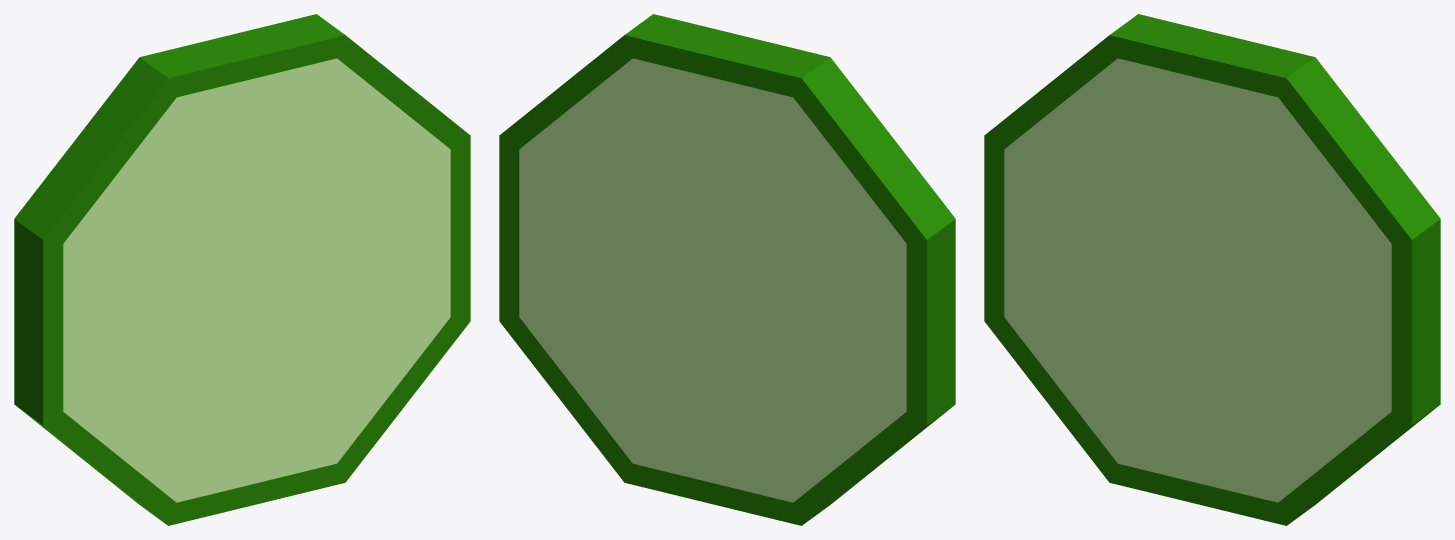
The model's file is cucumber03.obj.
3 views of the same model, side by side, from view 1: azimuth 30°, elevation 25°; view 2: azimuth 150°, elevation 25°; view 3: azimuth 330°, elevation 25° (orthographic).
Parts seen in each view (by area): view 1: Cylinder; view 2: Cylinder; view 3: Cylinder.
Boxes of the visible parts, bbox=[...] form: Cylinder: bbox=[14, 14, 470, 525]; Cylinder: bbox=[499, 14, 955, 525]; Cylinder: bbox=[984, 14, 1440, 525].
Size of the model in its own units: 0.0498 by 0.0498 by 0.00583.
1 material, 1 textured.
